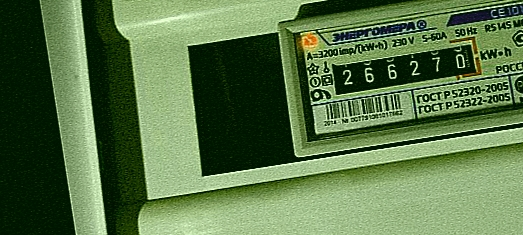0: (451, 51, 466, 70)
2: (338, 67, 353, 86), (406, 57, 419, 77)
6: (360, 64, 375, 84), (383, 62, 398, 81)
7: (429, 54, 442, 73)
screen: (318, 32, 487, 105)
